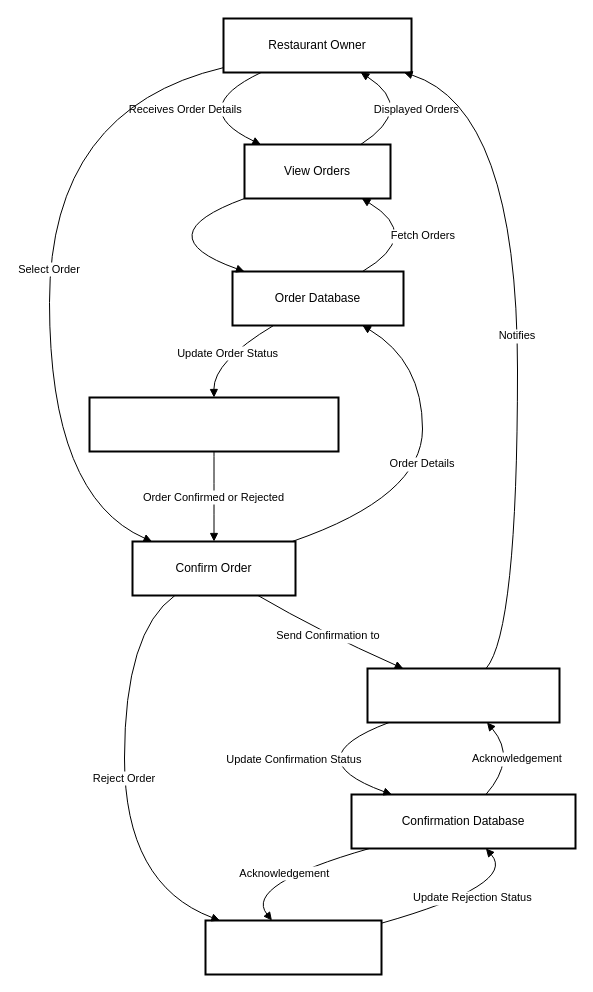
Image size: 593x992. Some labels were removed from this diagram. Here are the shapes that lost their labels. From the top down, the centre of each, then its label:
At (213,424): "Update Status in Database".
At (463,695): "Send Confirmation".
At (293,947): "Notify Rejection".
